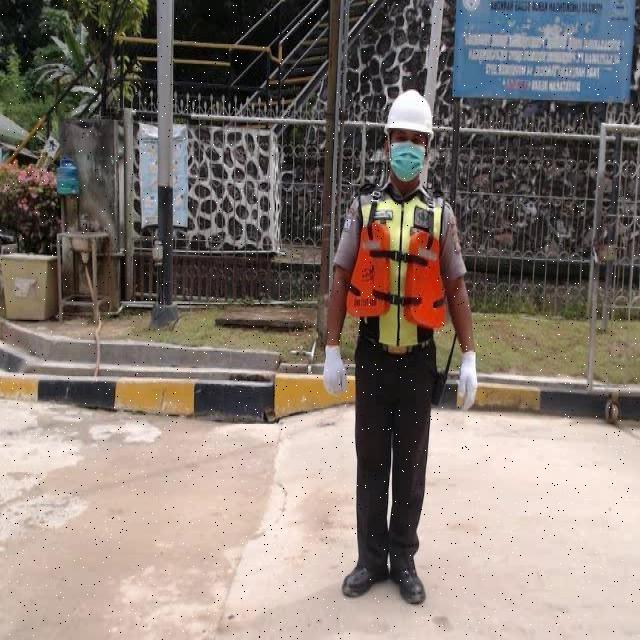Hard_hat: (382, 94, 440, 144)
Person: (322, 97, 473, 613)
Vest: (348, 190, 449, 349)
